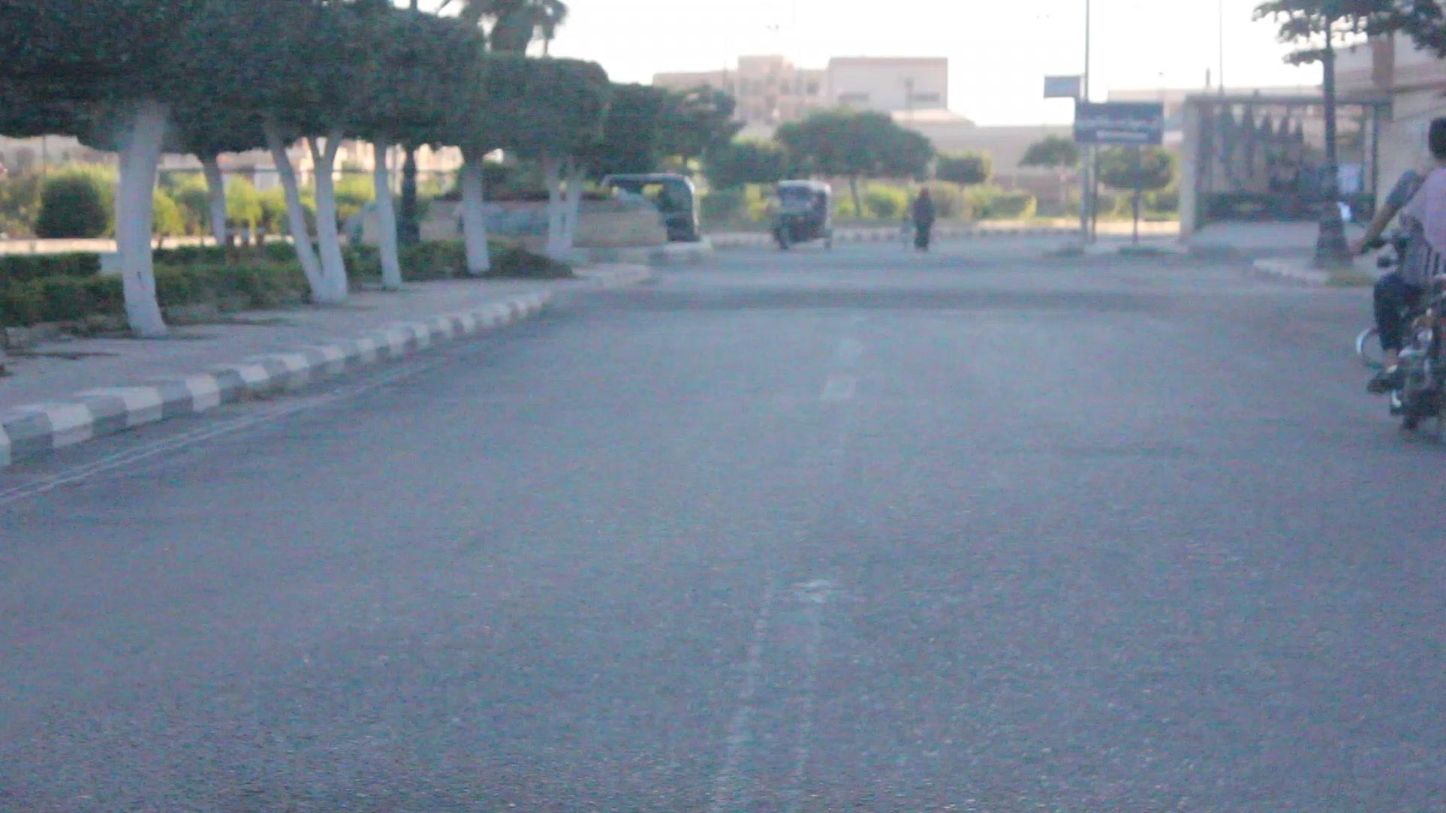Bump: (574, 271, 1312, 329)
